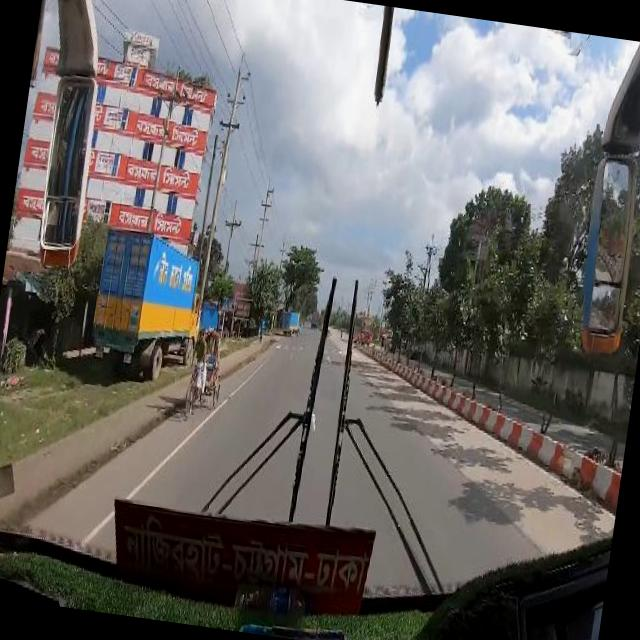bus: (352, 310, 376, 346)
motorcycle: (183, 324, 228, 418)
truck: (84, 222, 214, 382), (279, 309, 303, 337)
